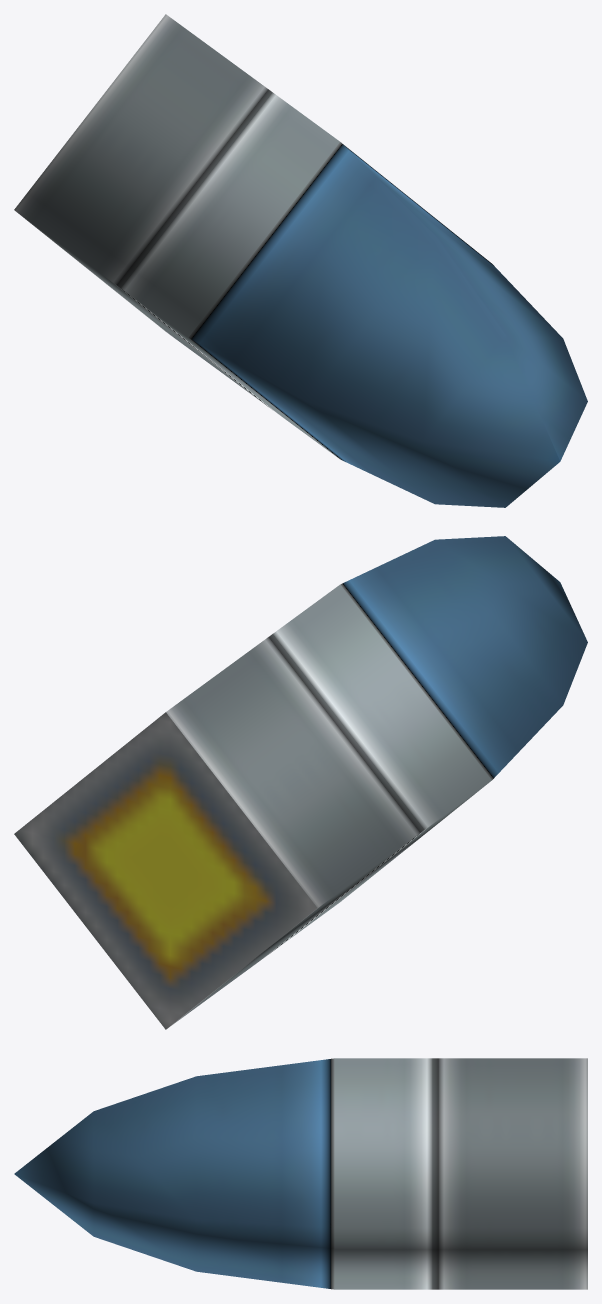
File: Allies_Shell_02.FBX
3 renders of one model, top to bottom at view 1: azimuth 30°, elevation 25°; view 2: azimuth 150°, elevation 25°; view 3: azimuth 270°, elevation 25°, orthographic. The views are drawn at different scales.
Parts seen in each view (by area): view 1: Allies_Bullet; view 2: Allies_Bullet; view 3: Allies_Bullet.
Part boxes in pixels (x1,y1,x2,y2): Allies_Bullet: (14,14,587,507); Allies_Bullet: (14,536,587,1029); Allies_Bullet: (14,1058,587,1289).
Size of the model in its own units: 52.48 by 52.48 by 118.
